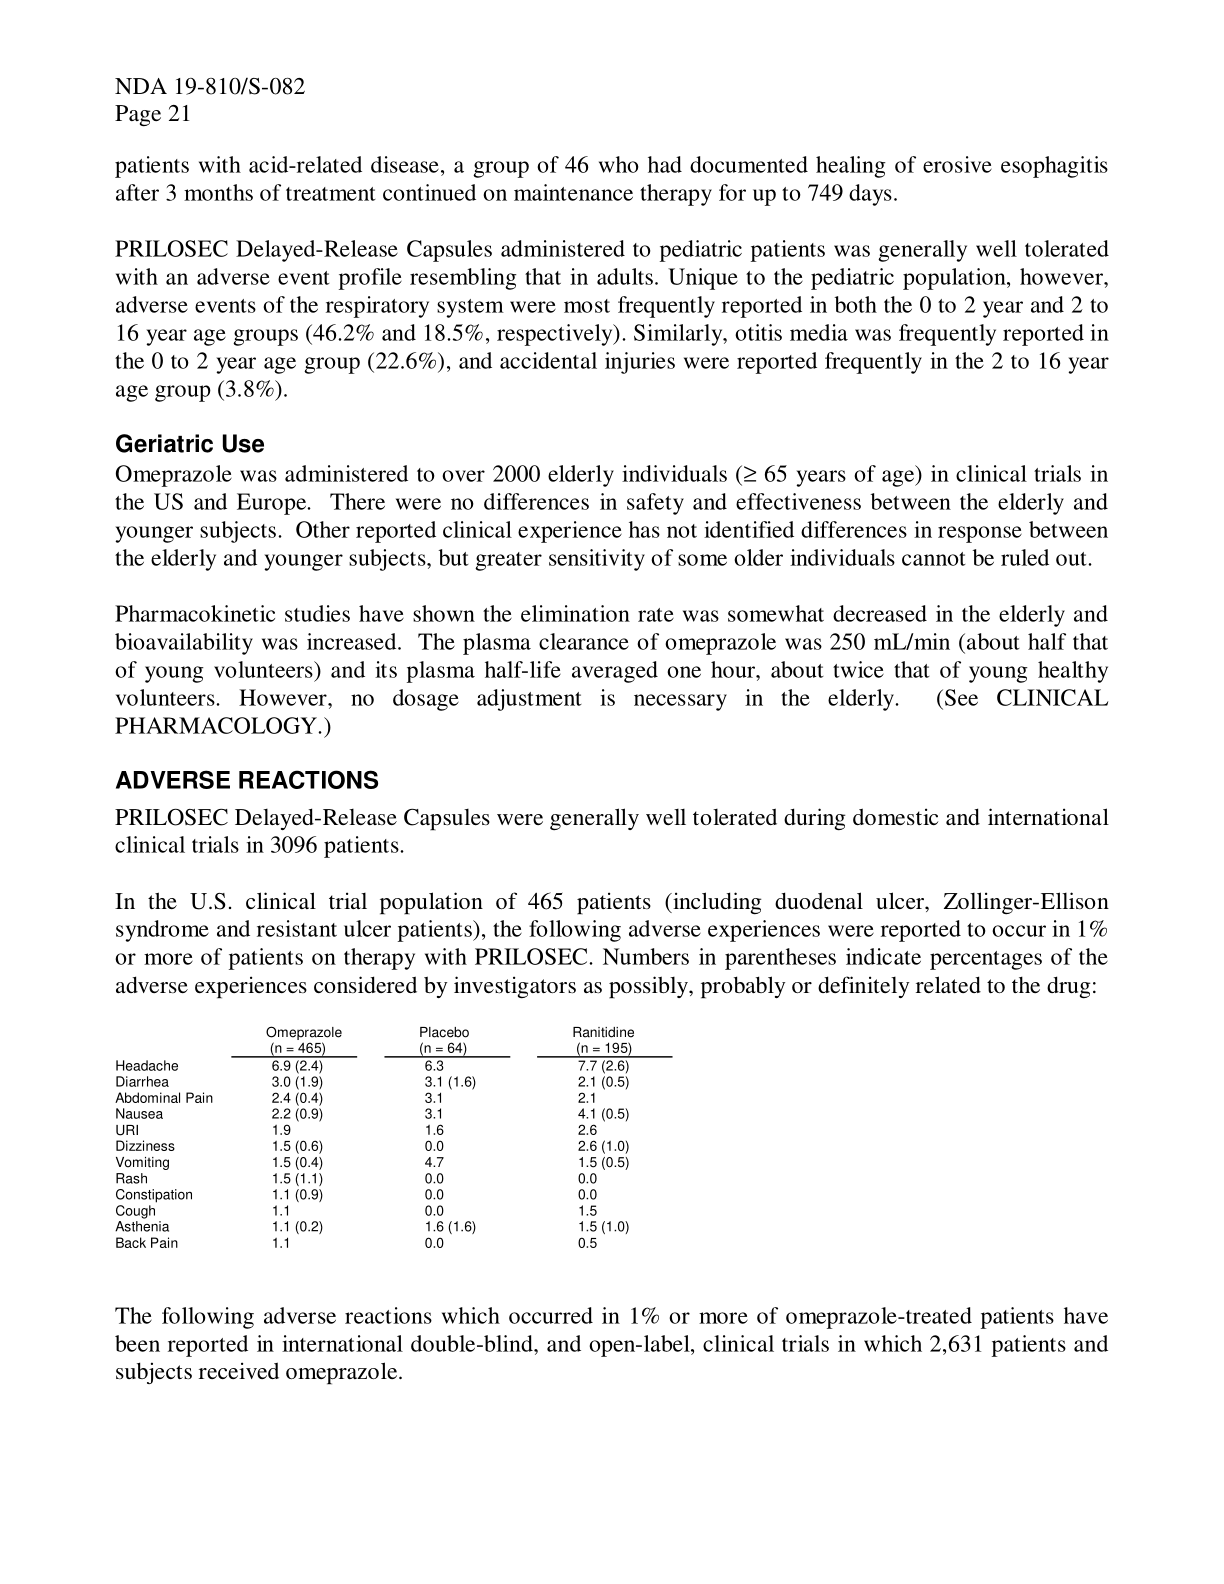nolines: (111, 1023, 674, 1250)
